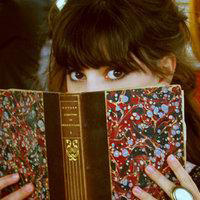face: (65, 41, 158, 145)
